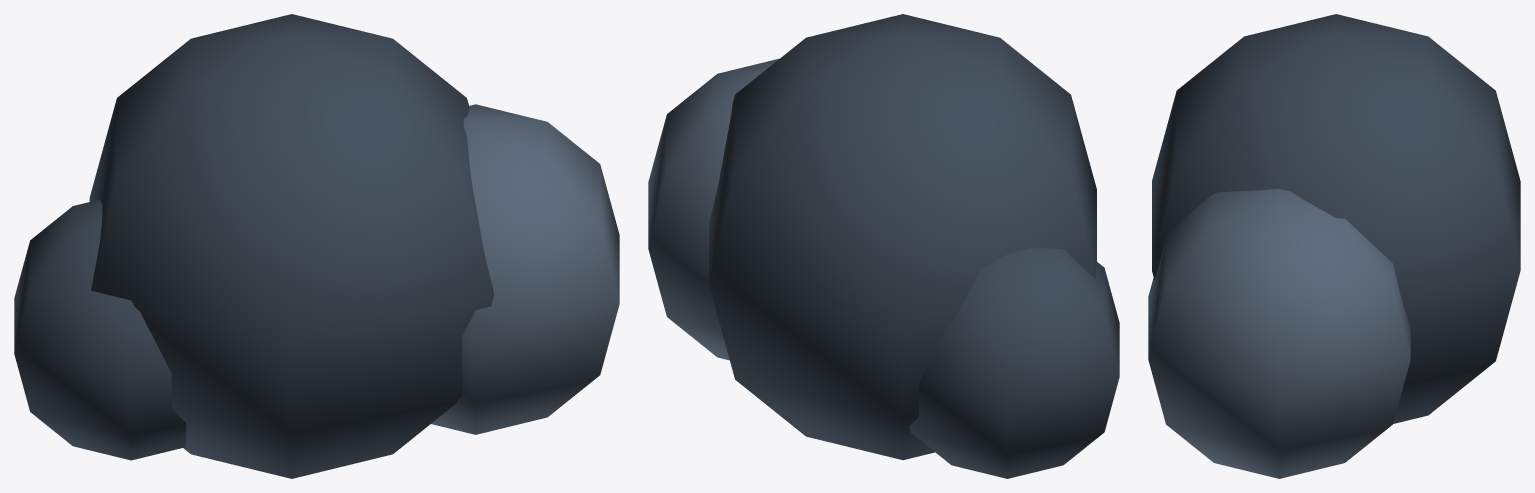
Rendered from rock_cluster.glb.
3 renders of one model, left to right at view 1: azimuth 30°, elevation 25°; view 2: azimuth 150°, elevation 25°; view 3: azimuth 270°, elevation 25°, orthographic. The views are drawn at different scales.
Bounding box in the file's own units: 1.22 × 0.9 × 0.7868.
